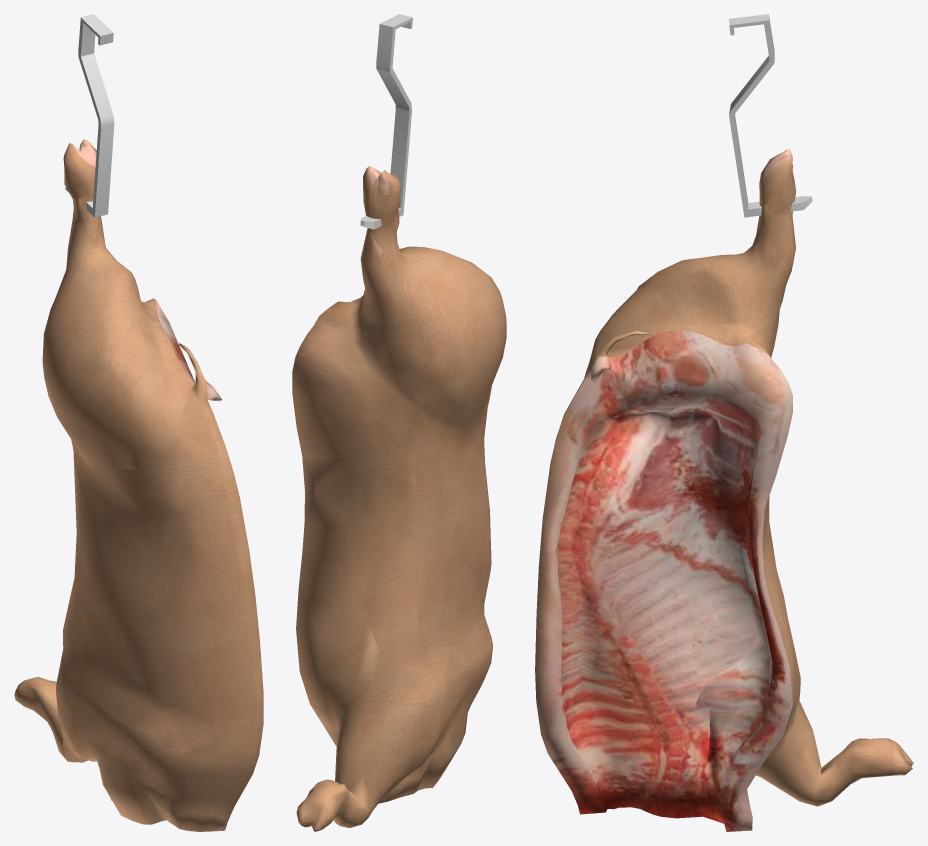
File: x_cerdo_pig_carcass.glb
3 views of the same model, side by side, from view 1: azimuth 30°, elevation 25°; view 2: azimuth 150°, elevation 25°; view 3: azimuth 270°, elevation 25° (orthographic). The views are drawn at different scales.
Visible parts, largest first — view 1: Object_4; view 2: Object_4; view 3: Object_4.
Part boxes in pixels (bbox=[...]): Object_4: bbox=[14, 14, 263, 831]; Object_4: bbox=[292, 14, 506, 831]; Object_4: bbox=[535, 14, 913, 831].
Bounding box in the file's own units: 0.3233 × 1.6 × 0.6947.
Materials: 2 (1 with a texture image).
